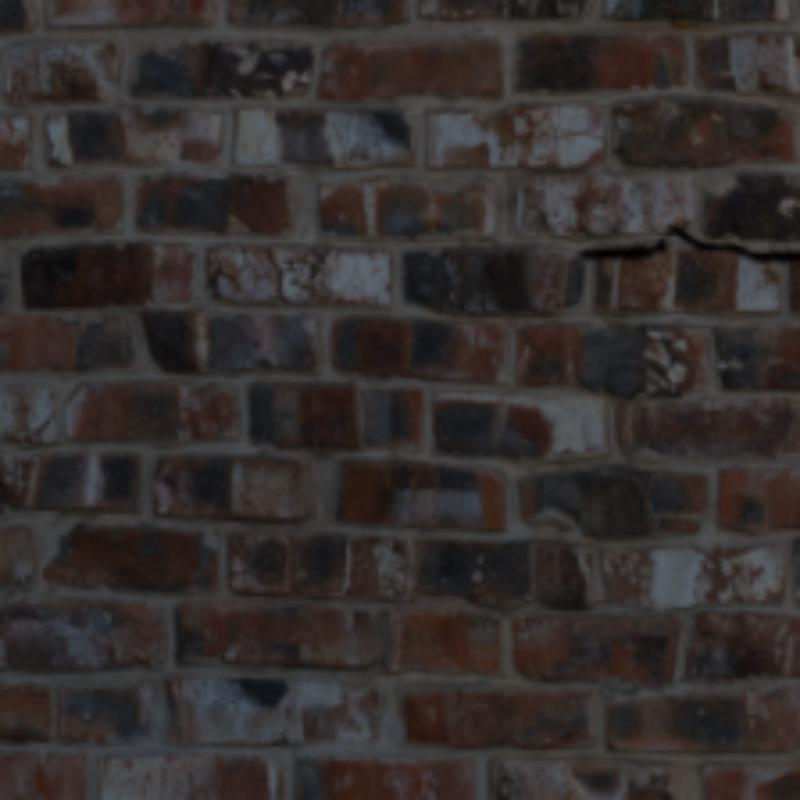pothole: (568, 225, 796, 261), (268, 250, 289, 304)
